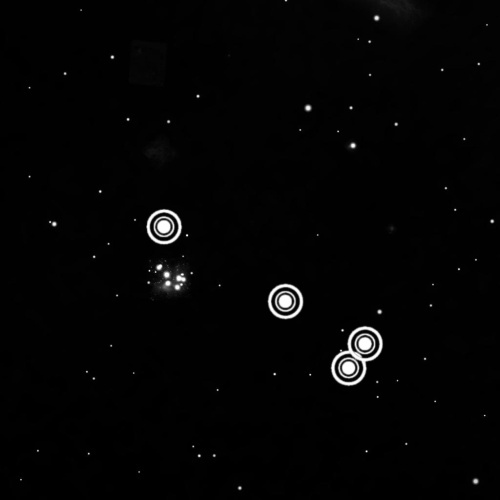sagitta: (134, 194, 391, 396)
